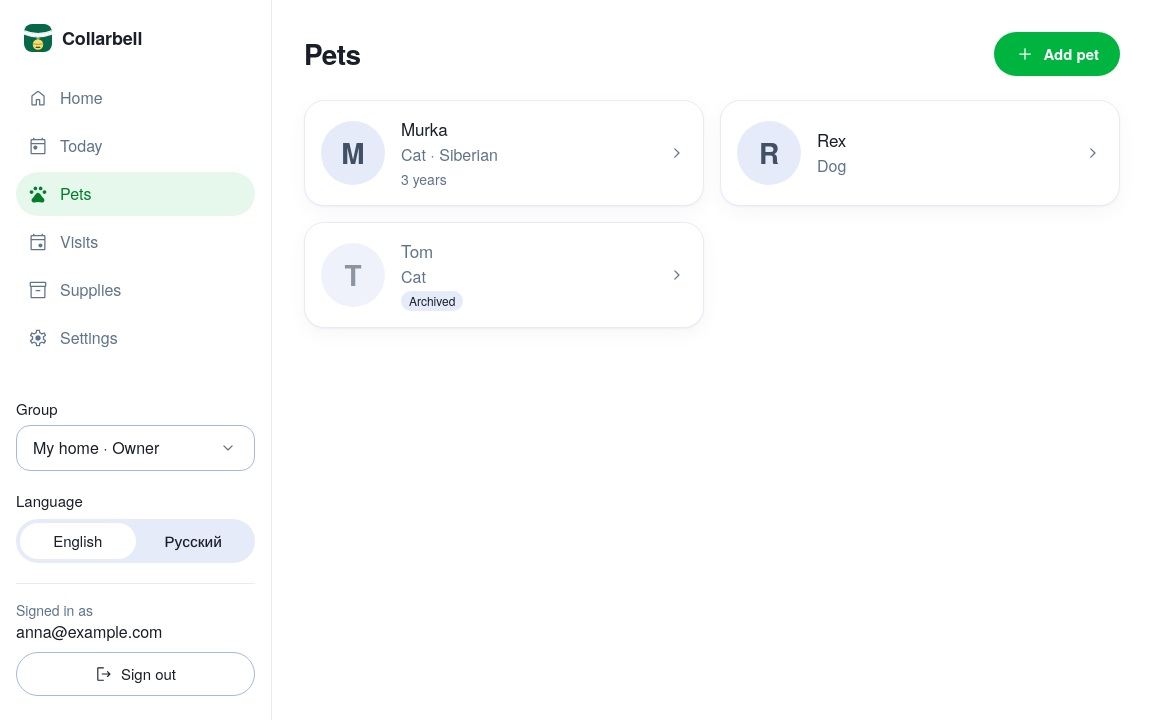
Test: the household on screen › reads the role again when the server refuses what the role can do
This screenshot has width=1152, height=720.
Click the link "Rex" at (832, 140), box x1=817 y1=127 x2=846 y2=152
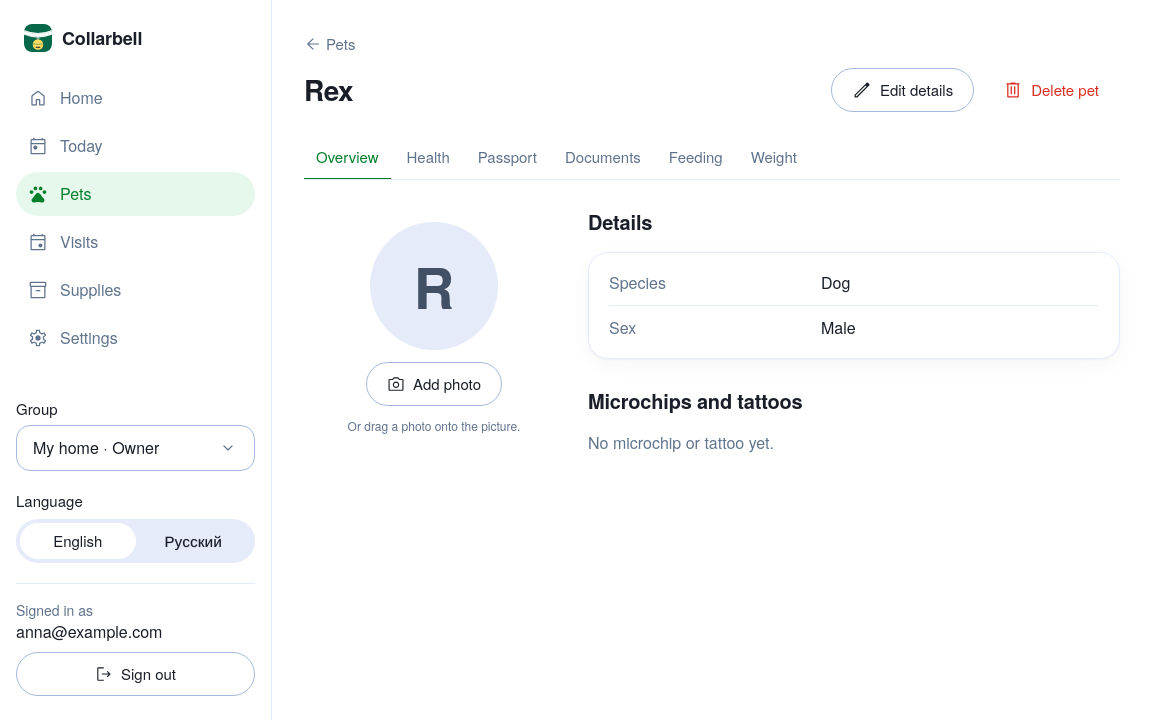
Click the button "Delete pet" at (1051, 90), box x1=982 y1=68 x2=1120 y2=112
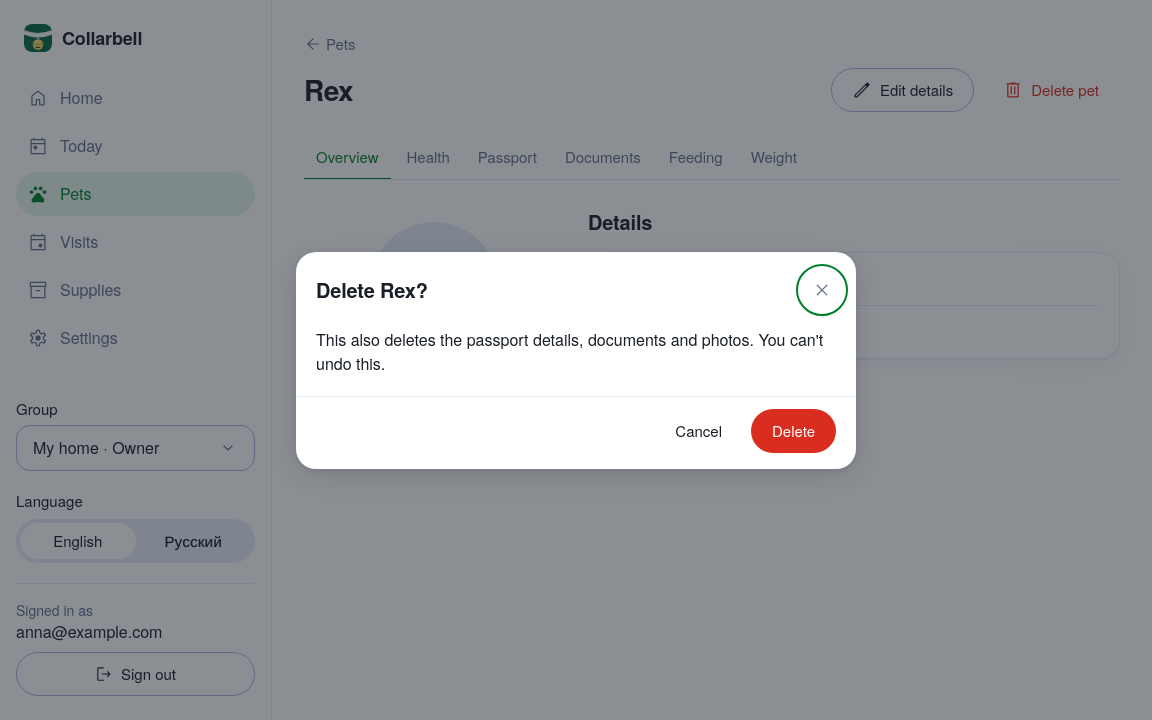
Click the button "Delete" at (794, 430), box x1=751 y1=408 x2=836 y2=452
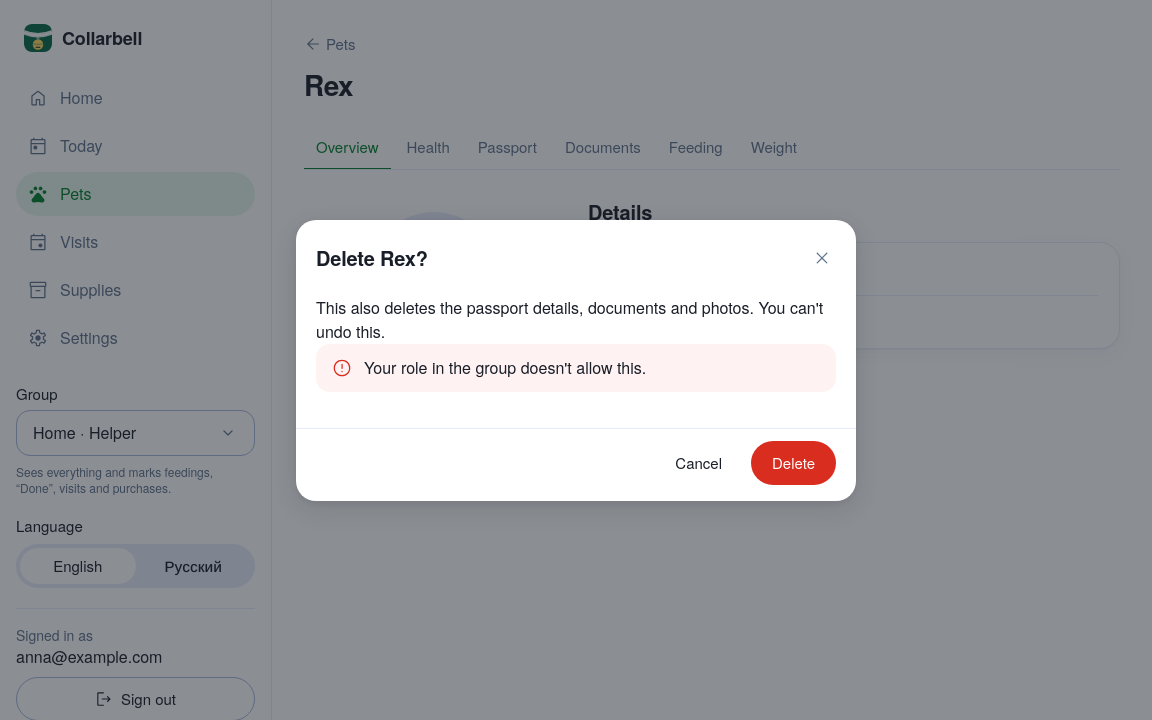
Expected: the text "Your role in the group doesn't allow this." is shown, x1=364 y1=356 x2=646 y2=380
Expected: the link "Edit details" is gone
